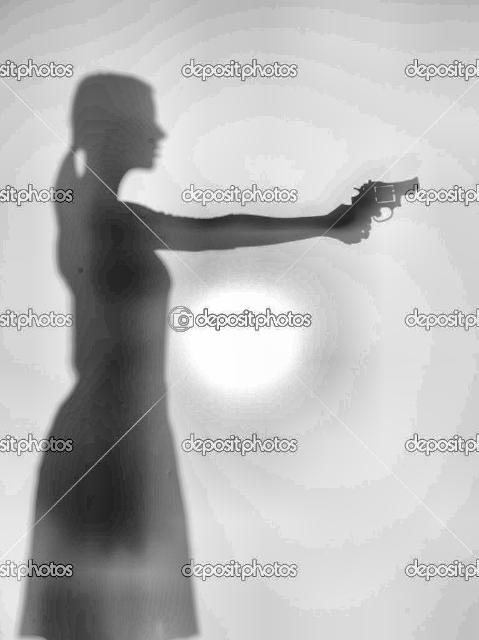pistol: (338, 170, 426, 242)
